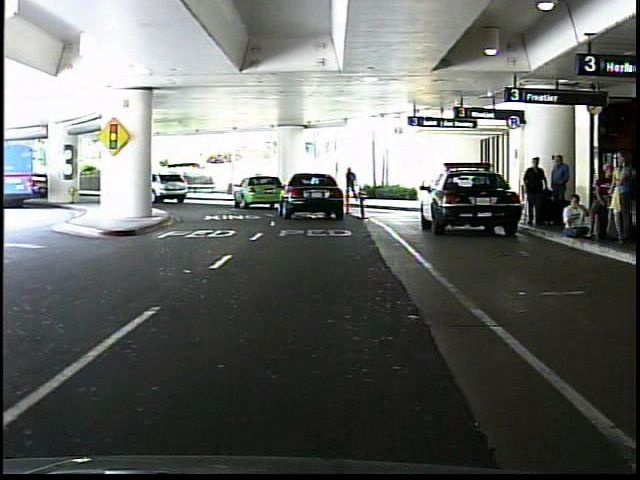person: (547, 149, 573, 229), (523, 152, 550, 225), (345, 163, 361, 205)
